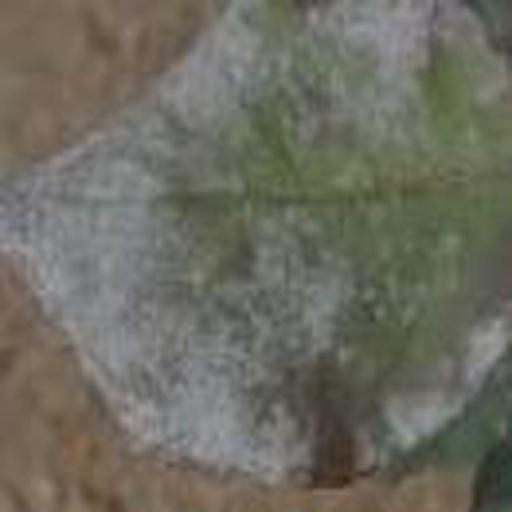powdery_mildew: (0, 0, 512, 484)
